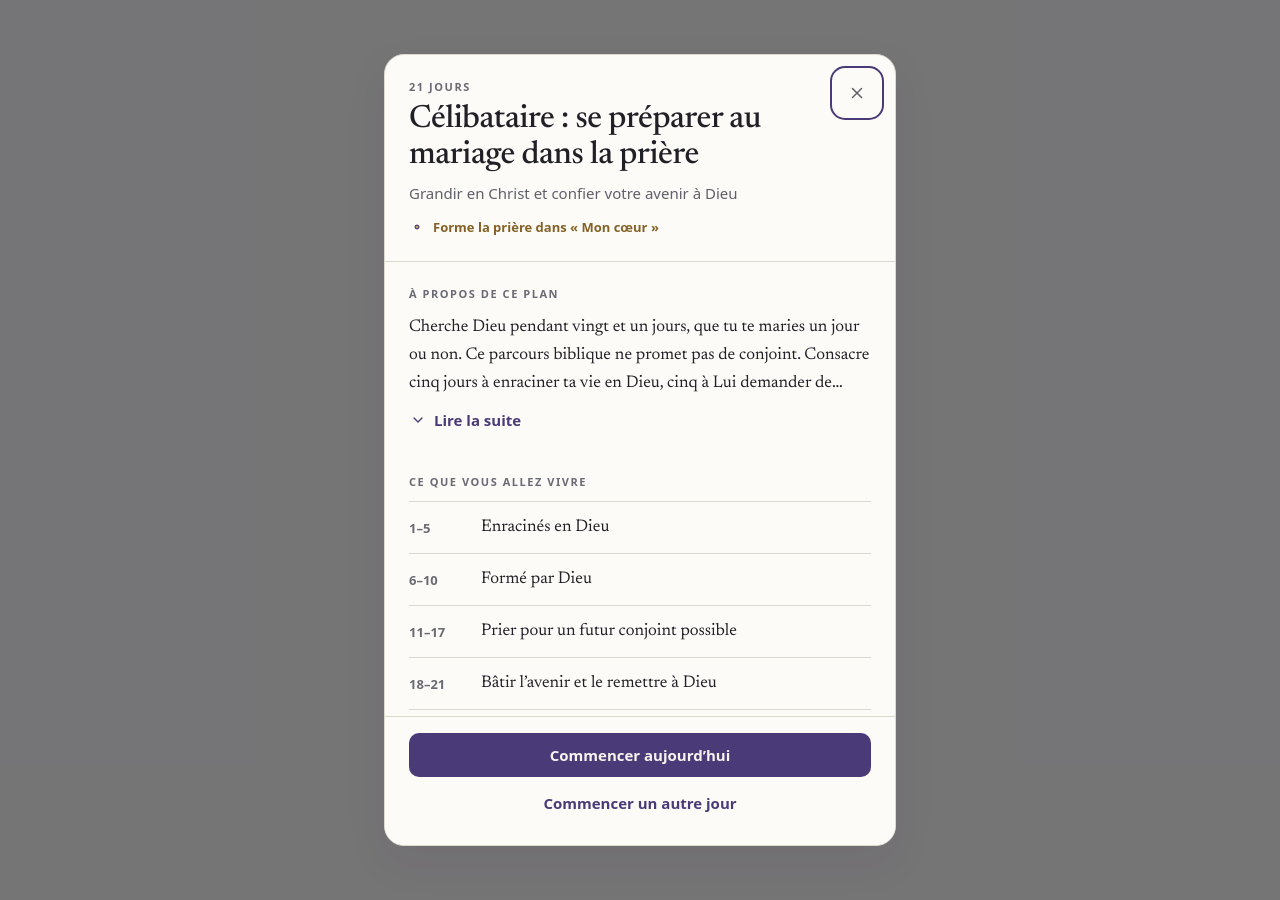
Scenario: the concise plan preview › keeps the longer biblical context behind an accessible disclosure
Expected: the text "Cherche Dieu pendant vingt et un jours, que tu te maries un jour ou non. Ce parcours biblique ne promet pas de conjoint." is shown, top-left (409, 319), bottom-right (870, 448)
Click the button "Lire la suite" at (466, 420), box top-left (397, 398), bottom-right (534, 442)
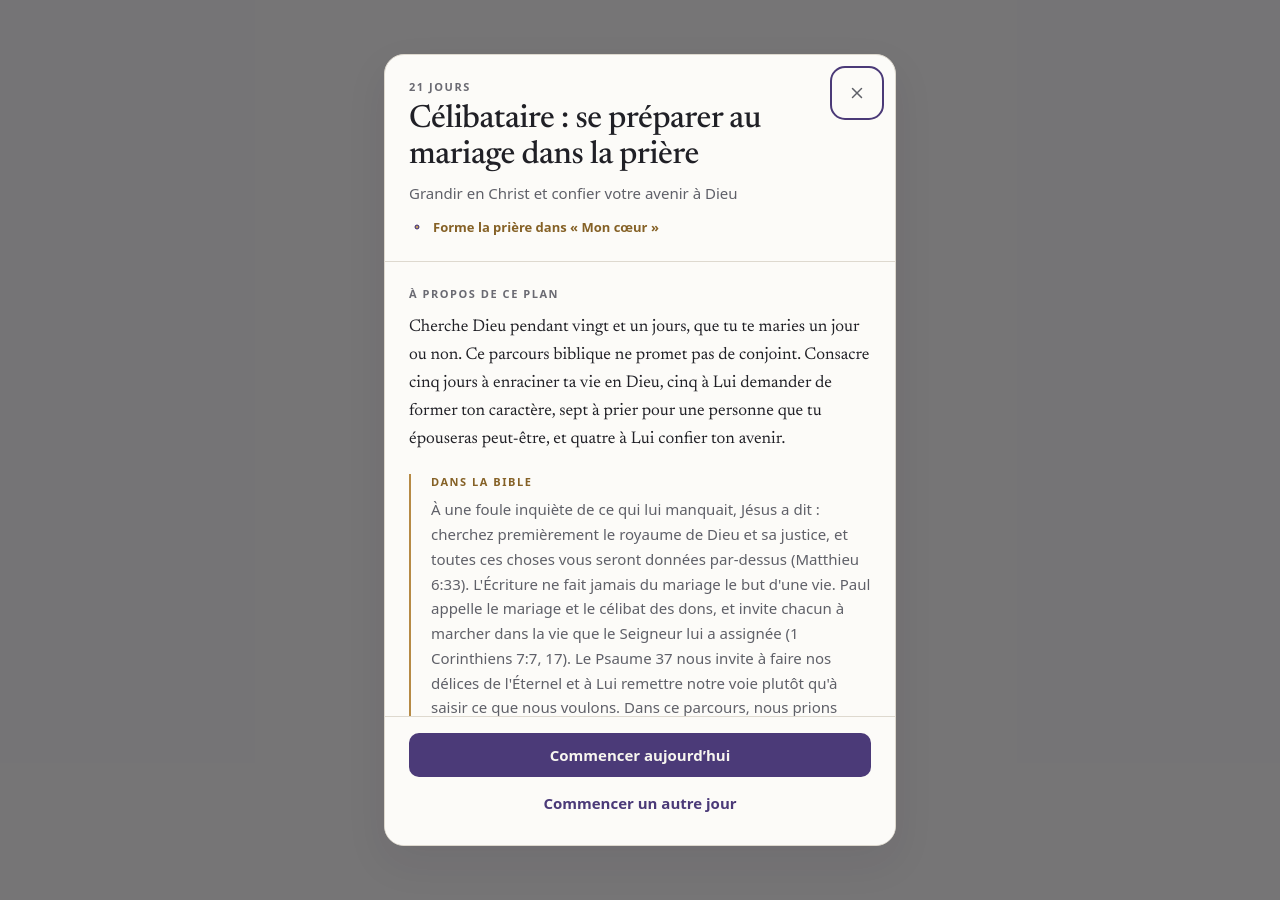
Result: the text "À une foule inquiète de ce qui lui manquait, Jésus a dit : cherchez premièrement le royaume de Dieu et sa justice, et to" is shown at top-left (431, 499), bottom-right (870, 716)
